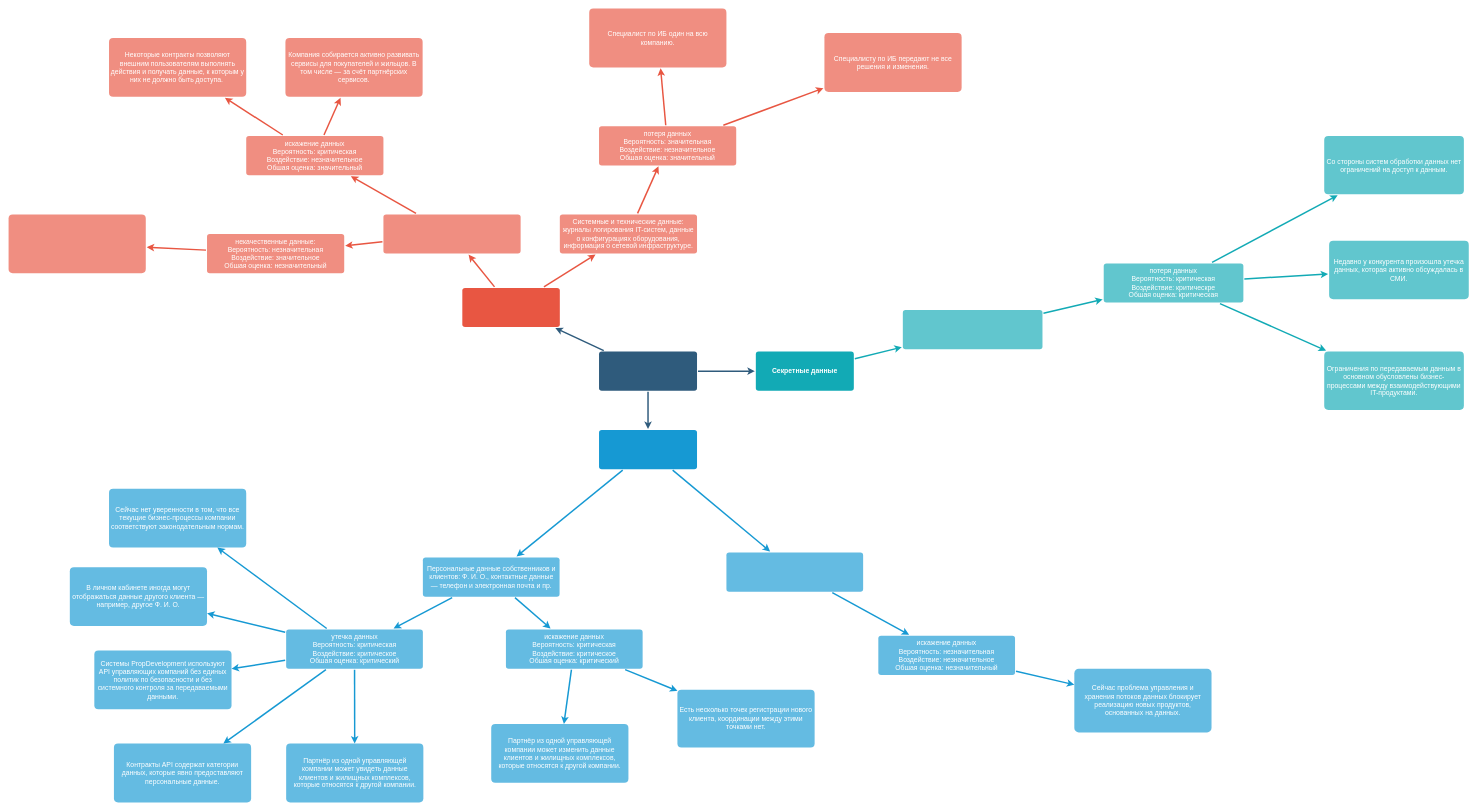
This 1477x810 diagram has some shape labels left out. Each missing label, with the centre of its shape:
Безопасность данных: (x=648, y=371)
Внутренние данные: (x=511, y=307)
Внутренние потоки данных между IT-продуктами контролируются не системно.: (x=77, y=243)
Данные о услугах ЖКХ: описание услуг, тарифы, актуальность оплаты: (x=451, y=233)
Конфиденциальные данные: (x=648, y=449)
Накопленная статистика, которую можно монетизировать: (x=794, y=571)
Финансовые данные: данные о транзакциях, реквизиты платёжных карт.: (x=972, y=329)
